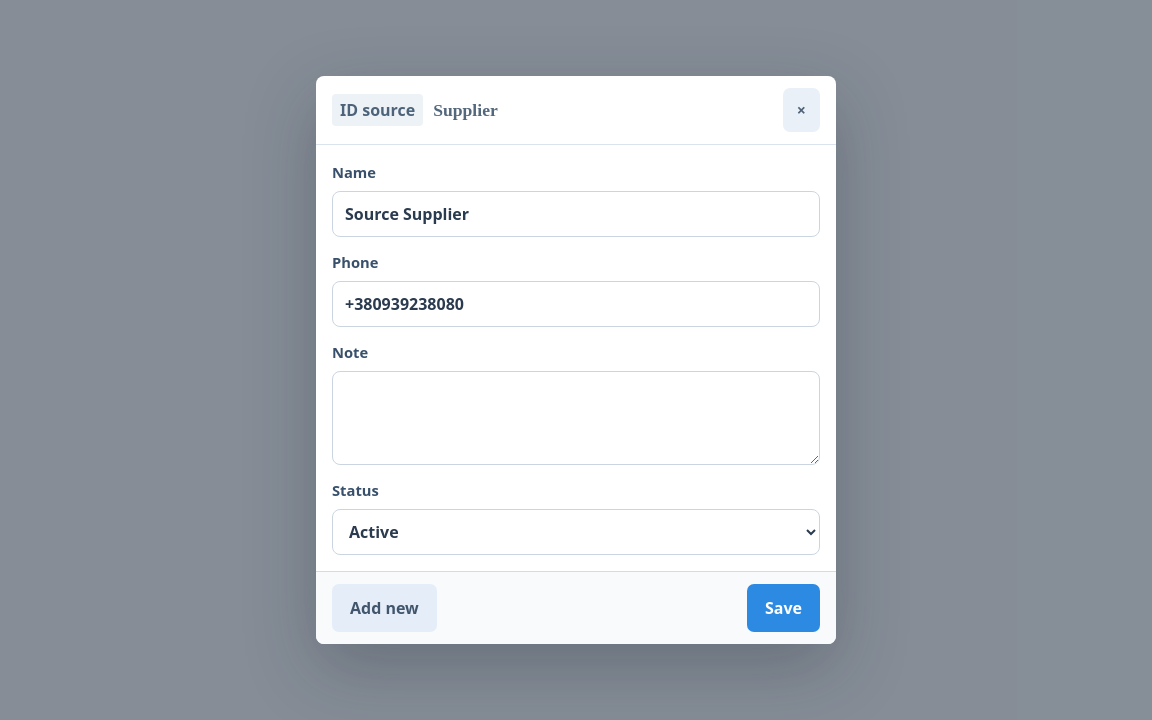
ProductCatalogModals duplicate merge flow › keeps SupplierModal open with draft state when merge confirmation is cancelled
Replace the text in the field showing "Source Supplier" with "Target Supplier" at (576, 214), box [332,191,820,237]
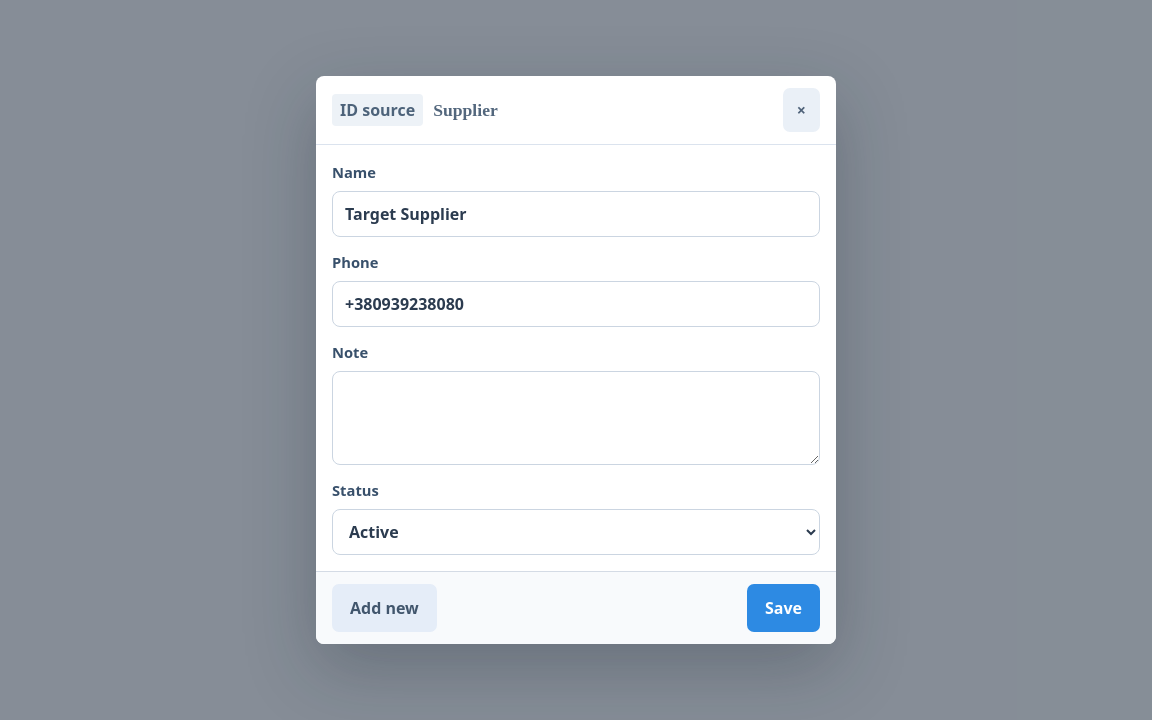
Click the button "Save" at (784, 608), box [747,584,820,632]
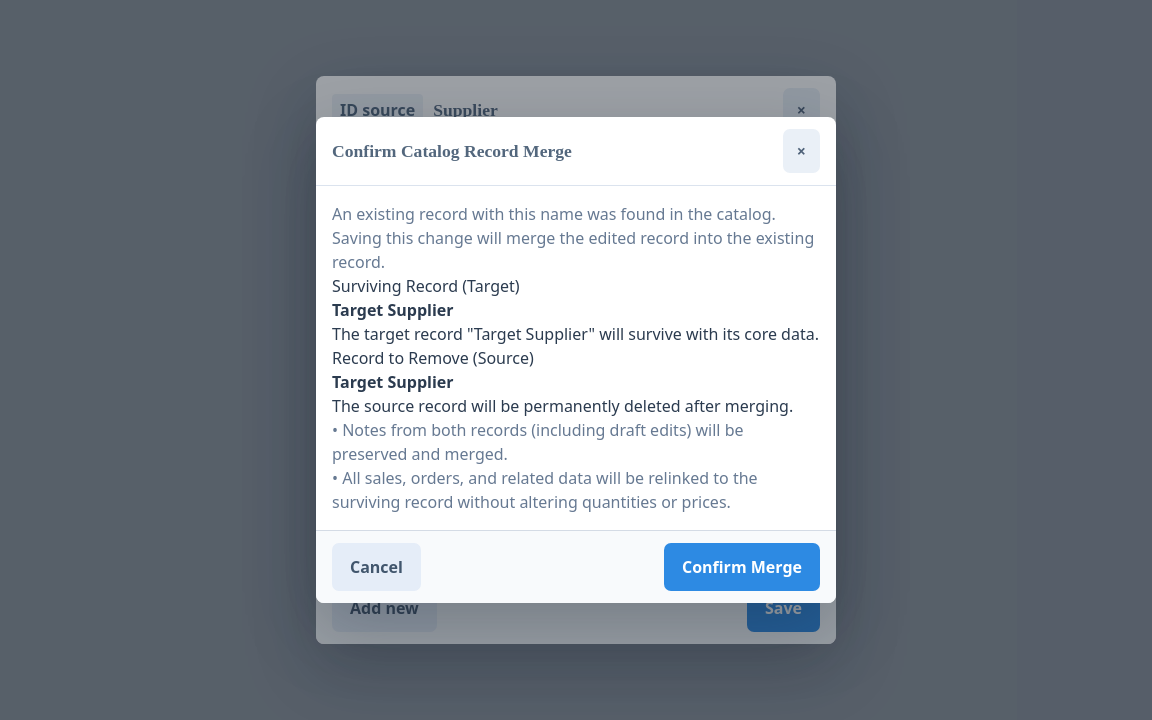
Now the heading "Confirm Catalog Record Merge" is shown, box [332,138,572,164]
Click Cancel on confirmation modal
Click the button "Cancel" at (376, 567), box [332,543,421,591]
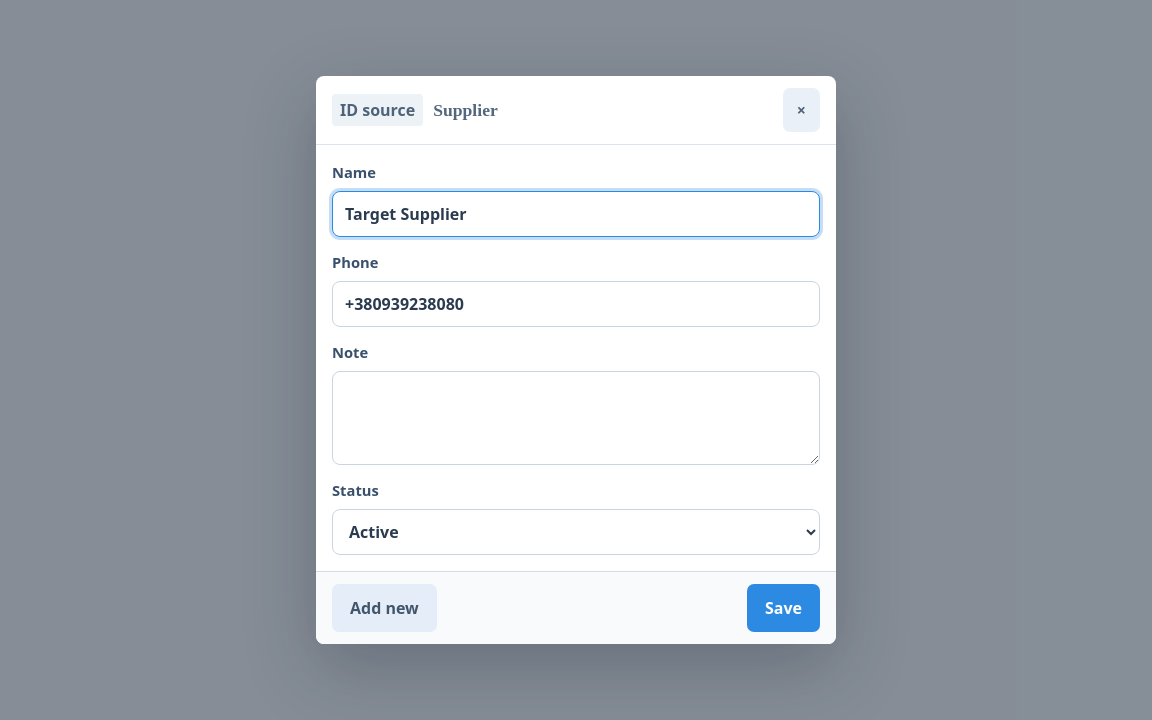
Now the heading "Confirm Catalog Record Merge" is gone
